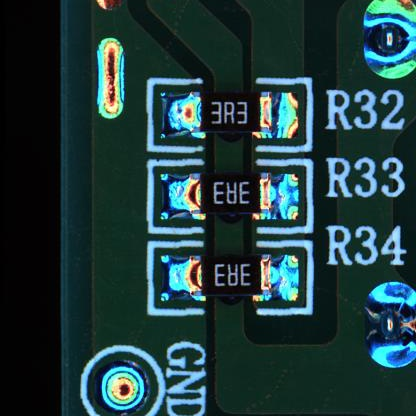spot: (93, 357, 150, 416)
